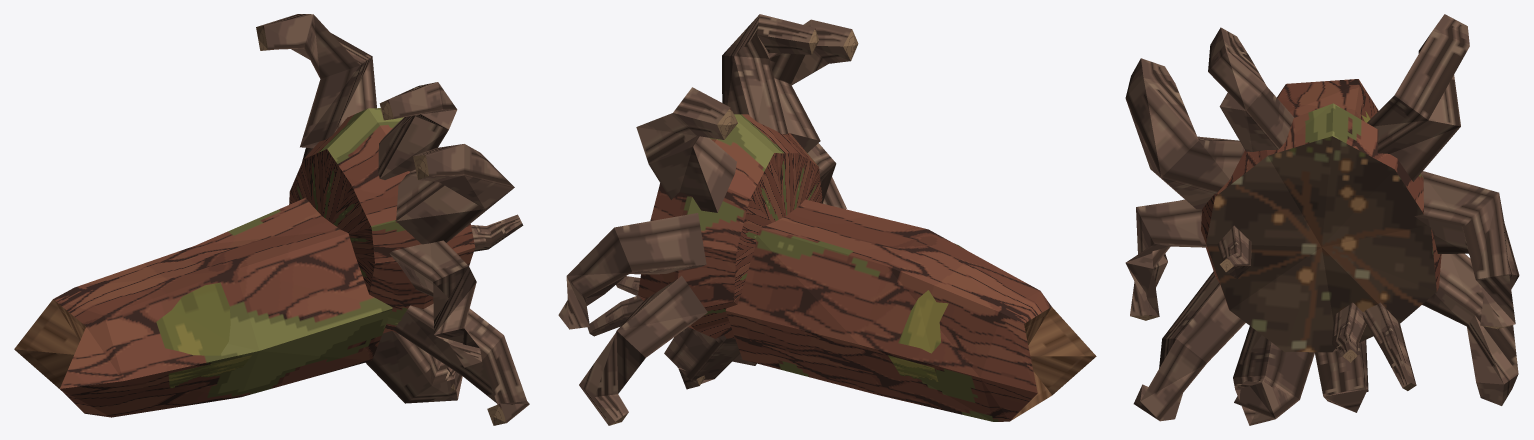
Rendered from SM_DW08_StumpUprooted.fbx.
3 views of the same model, side by side, from view 1: azimuth 30°, elevation 25°; view 2: azimuth 150°, elevation 25°; view 3: azimuth 270°, elevation 25° (orthographic). The views are drawn at different scales.
Parts seen in each view (by area): view 1: DW08_Bark, DW08_Wood, DW08_Moss; view 2: DW08_Bark, DW08_Wood, DW08_Moss; view 3: DW08_Wood, DW08_Bark.
Part boxes in pixels (left/top/right/bottom): DW08_Bark: left=53, top=108, right=475, bottom=417; DW08_Wood: left=14, top=14, right=529, bottom=425; DW08_Moss: left=156, top=282, right=251, bottom=388; DW08_Bark: left=638, top=114, right=1051, bottom=421; DW08_Wood: left=558, top=14, right=1096, bottom=425; DW08_Moss: left=888, top=243, right=965, bottom=382; DW08_Wood: left=1125, top=14, right=1519, bottom=425; DW08_Bark: left=1201, top=79, right=1441, bottom=309.
Size of the model in its own units: 2.49 by 1.82 by 1.79.
